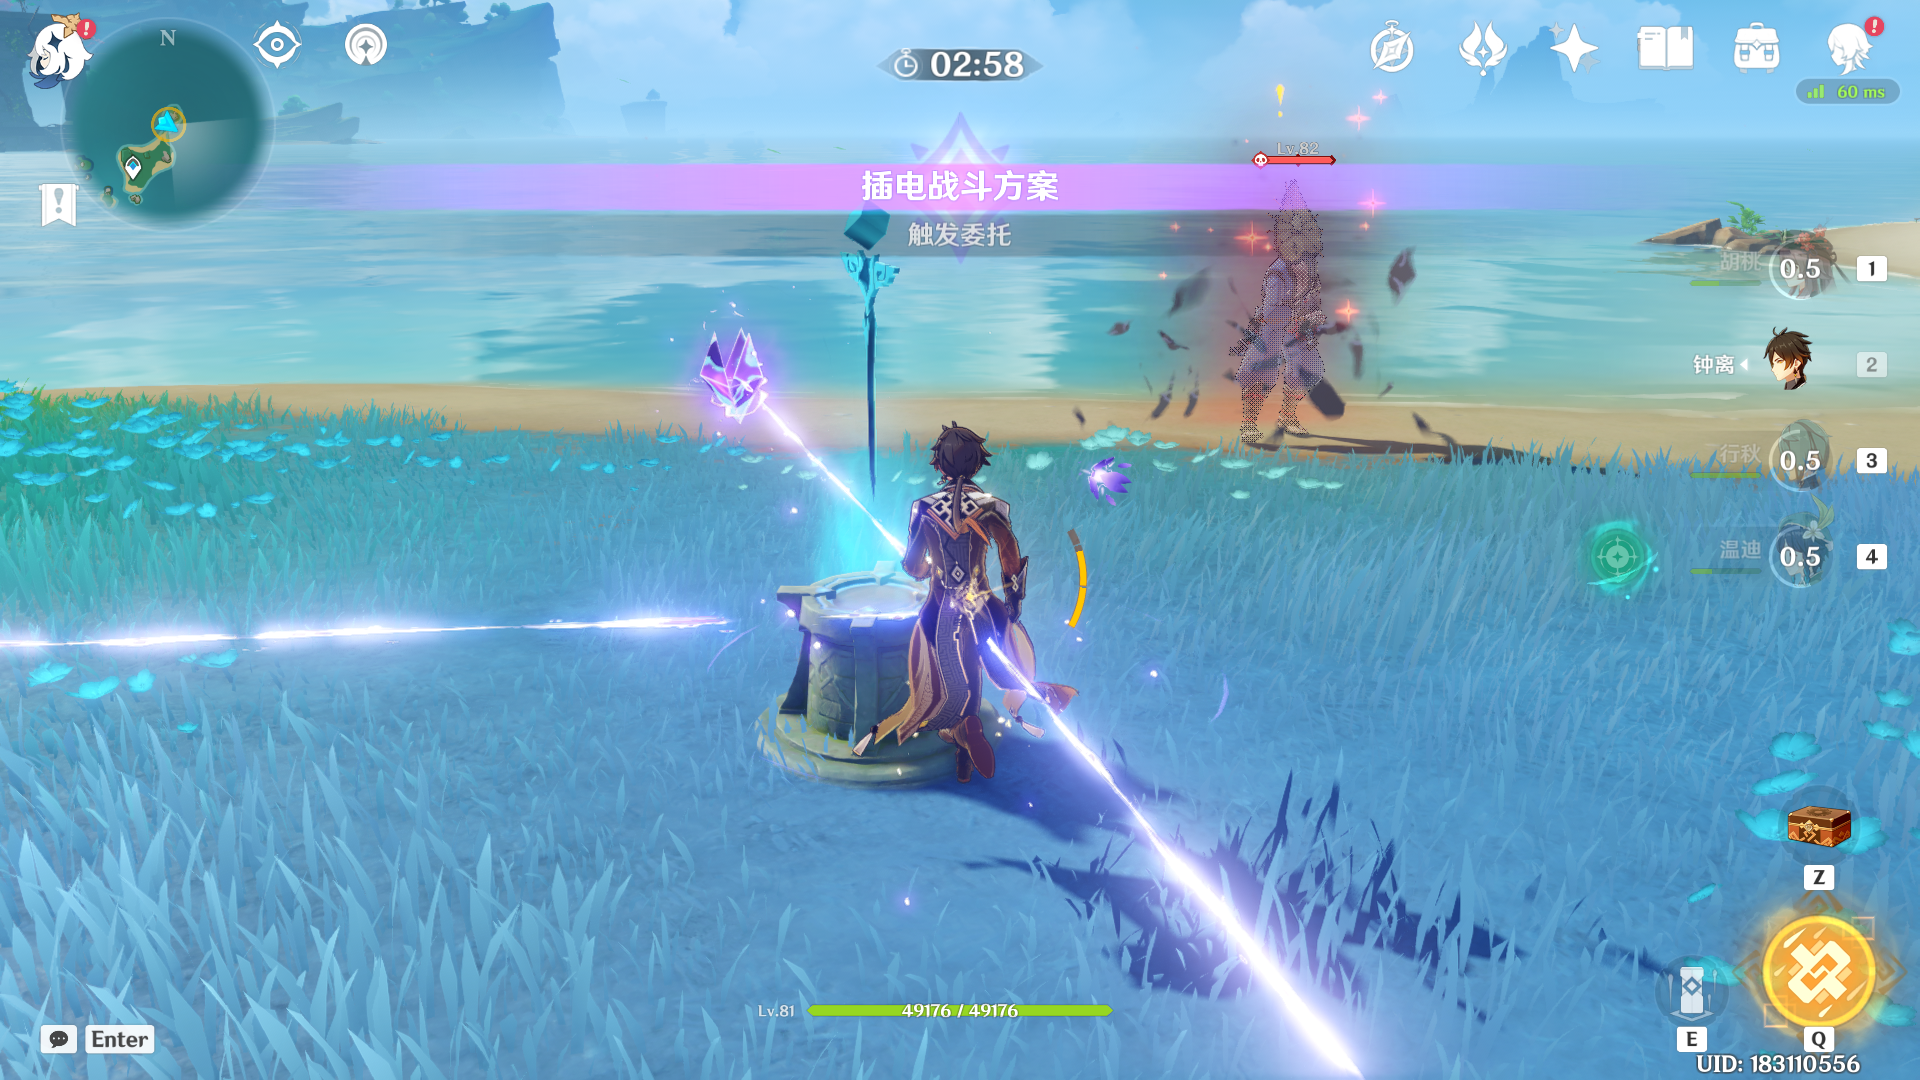character: (833, 402, 1095, 837)
